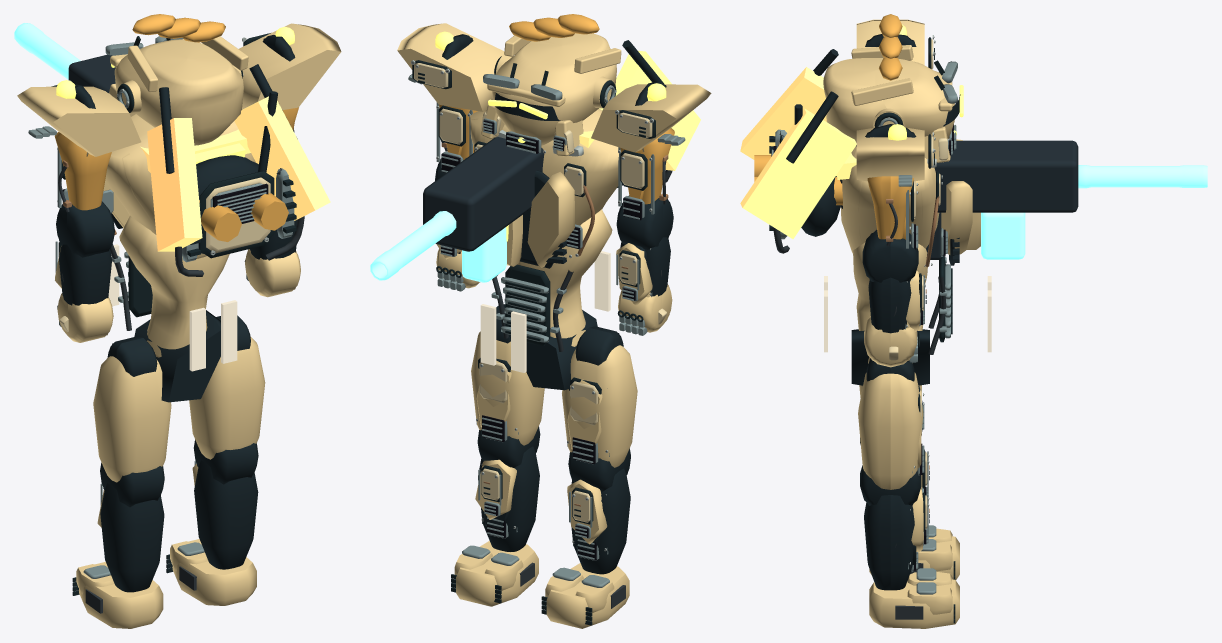
File: mistral.glb
The picture shows the model from 3 angles, left to right: view 1: azimuth 30°, elevation 25°; view 2: azimuth 150°, elevation 25°; view 3: azimuth 270°, elevation 25°; orthographic projection. The views are drawn at different scales.
Visible parts, largest first — view 1: LOD7_Batch3, LOD3_Batch8, LOD3_Batch54, LOD3_Batch46, LOD3_Batch63, LOD1_Batch5, LOD3_Batch50, LOD3_Batch59, LOD3_Batch36, LOD3_Batch23, LOD3_Batch42, LOD3_Batch57 (+27 smaller); view 2: LOD3_Batch8, LOD7_Batch40, LOD3_Batch42, LOD3_Batch54, LOD3_Batch36, LOD3_Batch63, LOD1_Batch47, LOD7_Batch41, LOD3_Batch23, LOD3_Batch46, LOD3_Batch48, LOD3_Batch57 (+39 smaller); view 3: LOD7_Batch3, LOD7_Batch40, LOD3_Batch8, LOD3_Batch63, LOD3_Batch42, LOD7_Batch41, LOD3_Batch59, LOD3_Batch57, LOD3_Batch36, LOD3_Batch31, LOD3_Batch32, LOD3_Batch29 (+15 smaller).
Boxes of the visible parts, box(x1,y1,x2,y2) form: LOD7_Batch3: box(147, 96, 330, 251); LOD3_Batch8: box(109, 36, 248, 145); LOD3_Batch54: box(93, 356, 171, 482); LOD3_Batch46: box(119, 215, 229, 357); LOD3_Batch63: box(189, 336, 265, 459); LOD1_Batch5: box(175, 168, 304, 276); LOD3_Batch50: box(100, 483, 164, 592); LOD3_Batch59: box(194, 460, 258, 569); LOD3_Batch36: box(239, 23, 341, 109); LOD3_Batch23: box(17, 86, 141, 156); LOD3_Batch42: box(103, 114, 255, 258); LOD3_Batch57: box(170, 539, 256, 605); LOD3_Batch8: box(481, 33, 621, 156); LOD7_Batch40: box(423, 137, 544, 251); LOD3_Batch42: box(465, 109, 618, 267); LOD3_Batch54: box(562, 345, 637, 467); LOD3_Batch36: box(397, 23, 504, 111); LOD3_Batch63: box(471, 331, 544, 445); LOD1_Batch47: box(491, 264, 573, 351); LOD7_Batch41: box(370, 211, 506, 282); LOD3_Batch23: box(591, 84, 711, 152); LOD3_Batch46: box(517, 209, 612, 346); LOD3_Batch48: box(545, 563, 629, 628); LOD3_Batch57: box(454, 541, 538, 606); LOD7_Batch3: box(740, 67, 856, 238); LOD7_Batch40: box(840, 140, 1078, 259); LOD3_Batch8: box(823, 45, 954, 162); LOD3_Batch63: box(858, 372, 923, 489); LOD3_Batch42: box(840, 139, 980, 254); LOD7_Batch41: box(981, 165, 1207, 259); LOD3_Batch59: box(864, 495, 916, 590); LOD3_Batch57: box(869, 571, 959, 628); LOD3_Batch36: box(856, 128, 924, 181); LOD3_Batch31: box(864, 270, 920, 367); LOD3_Batch32: box(862, 229, 918, 282); LOD3_Batch29: box(868, 277, 911, 333).
Bounding box in the file's own units: 0.9533 × 1.83 × 1.37.
